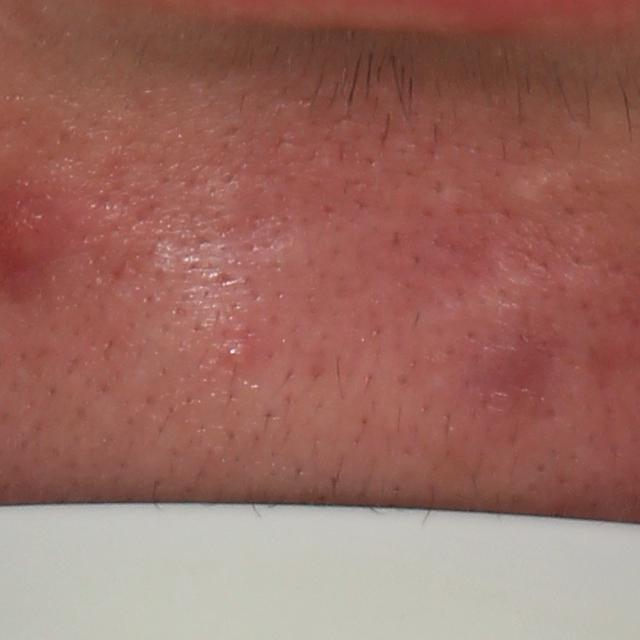hypertrophic_scar: (470, 153, 579, 213)
